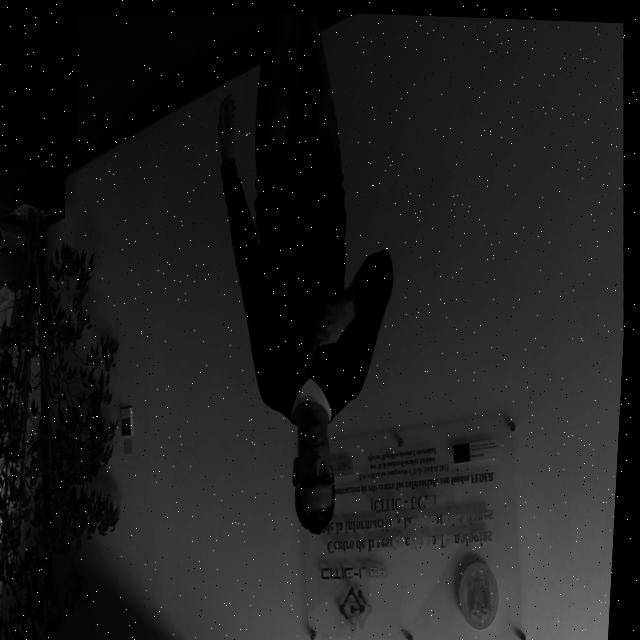knife: (301, 331, 325, 373)
